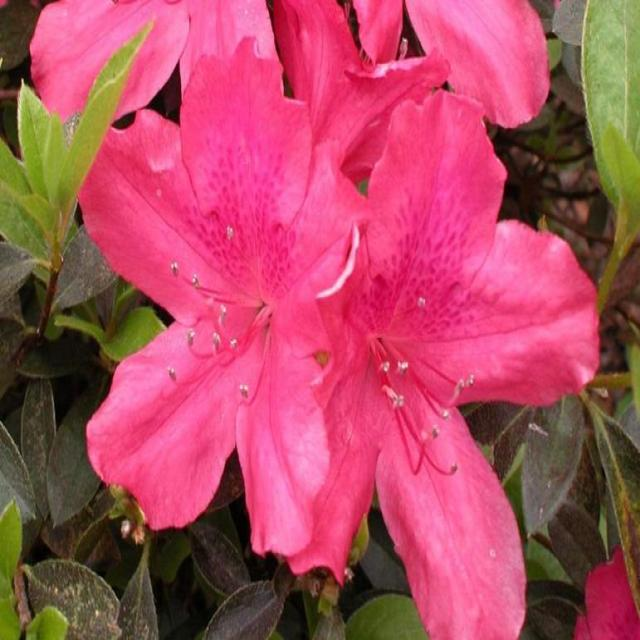azalea: (317, 126, 601, 640), (94, 32, 338, 596)
